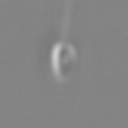normal: (57, 1, 84, 36)
